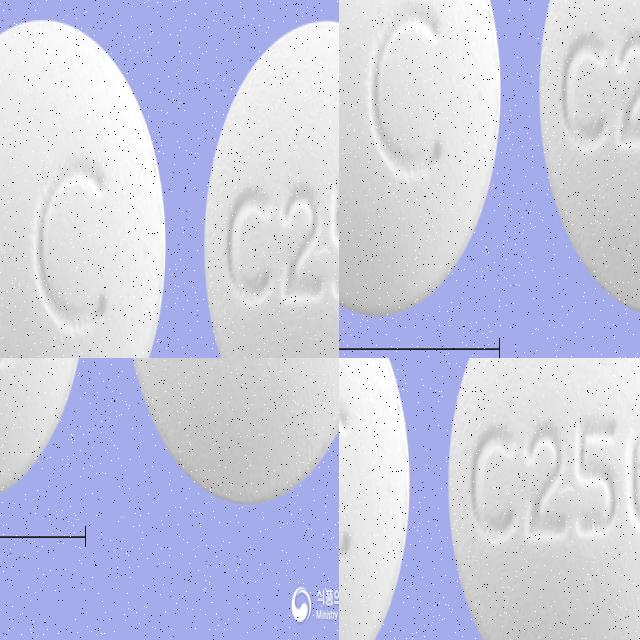Ciroctan - 500mg: (445, 358, 640, 640), (339, 358, 415, 640)
Ciropan: (339, 0, 504, 321), (542, 0, 640, 318)
Clatwo: (0, 358, 137, 513)
Cyfloc: (0, 20, 166, 358), (202, 18, 339, 358)
